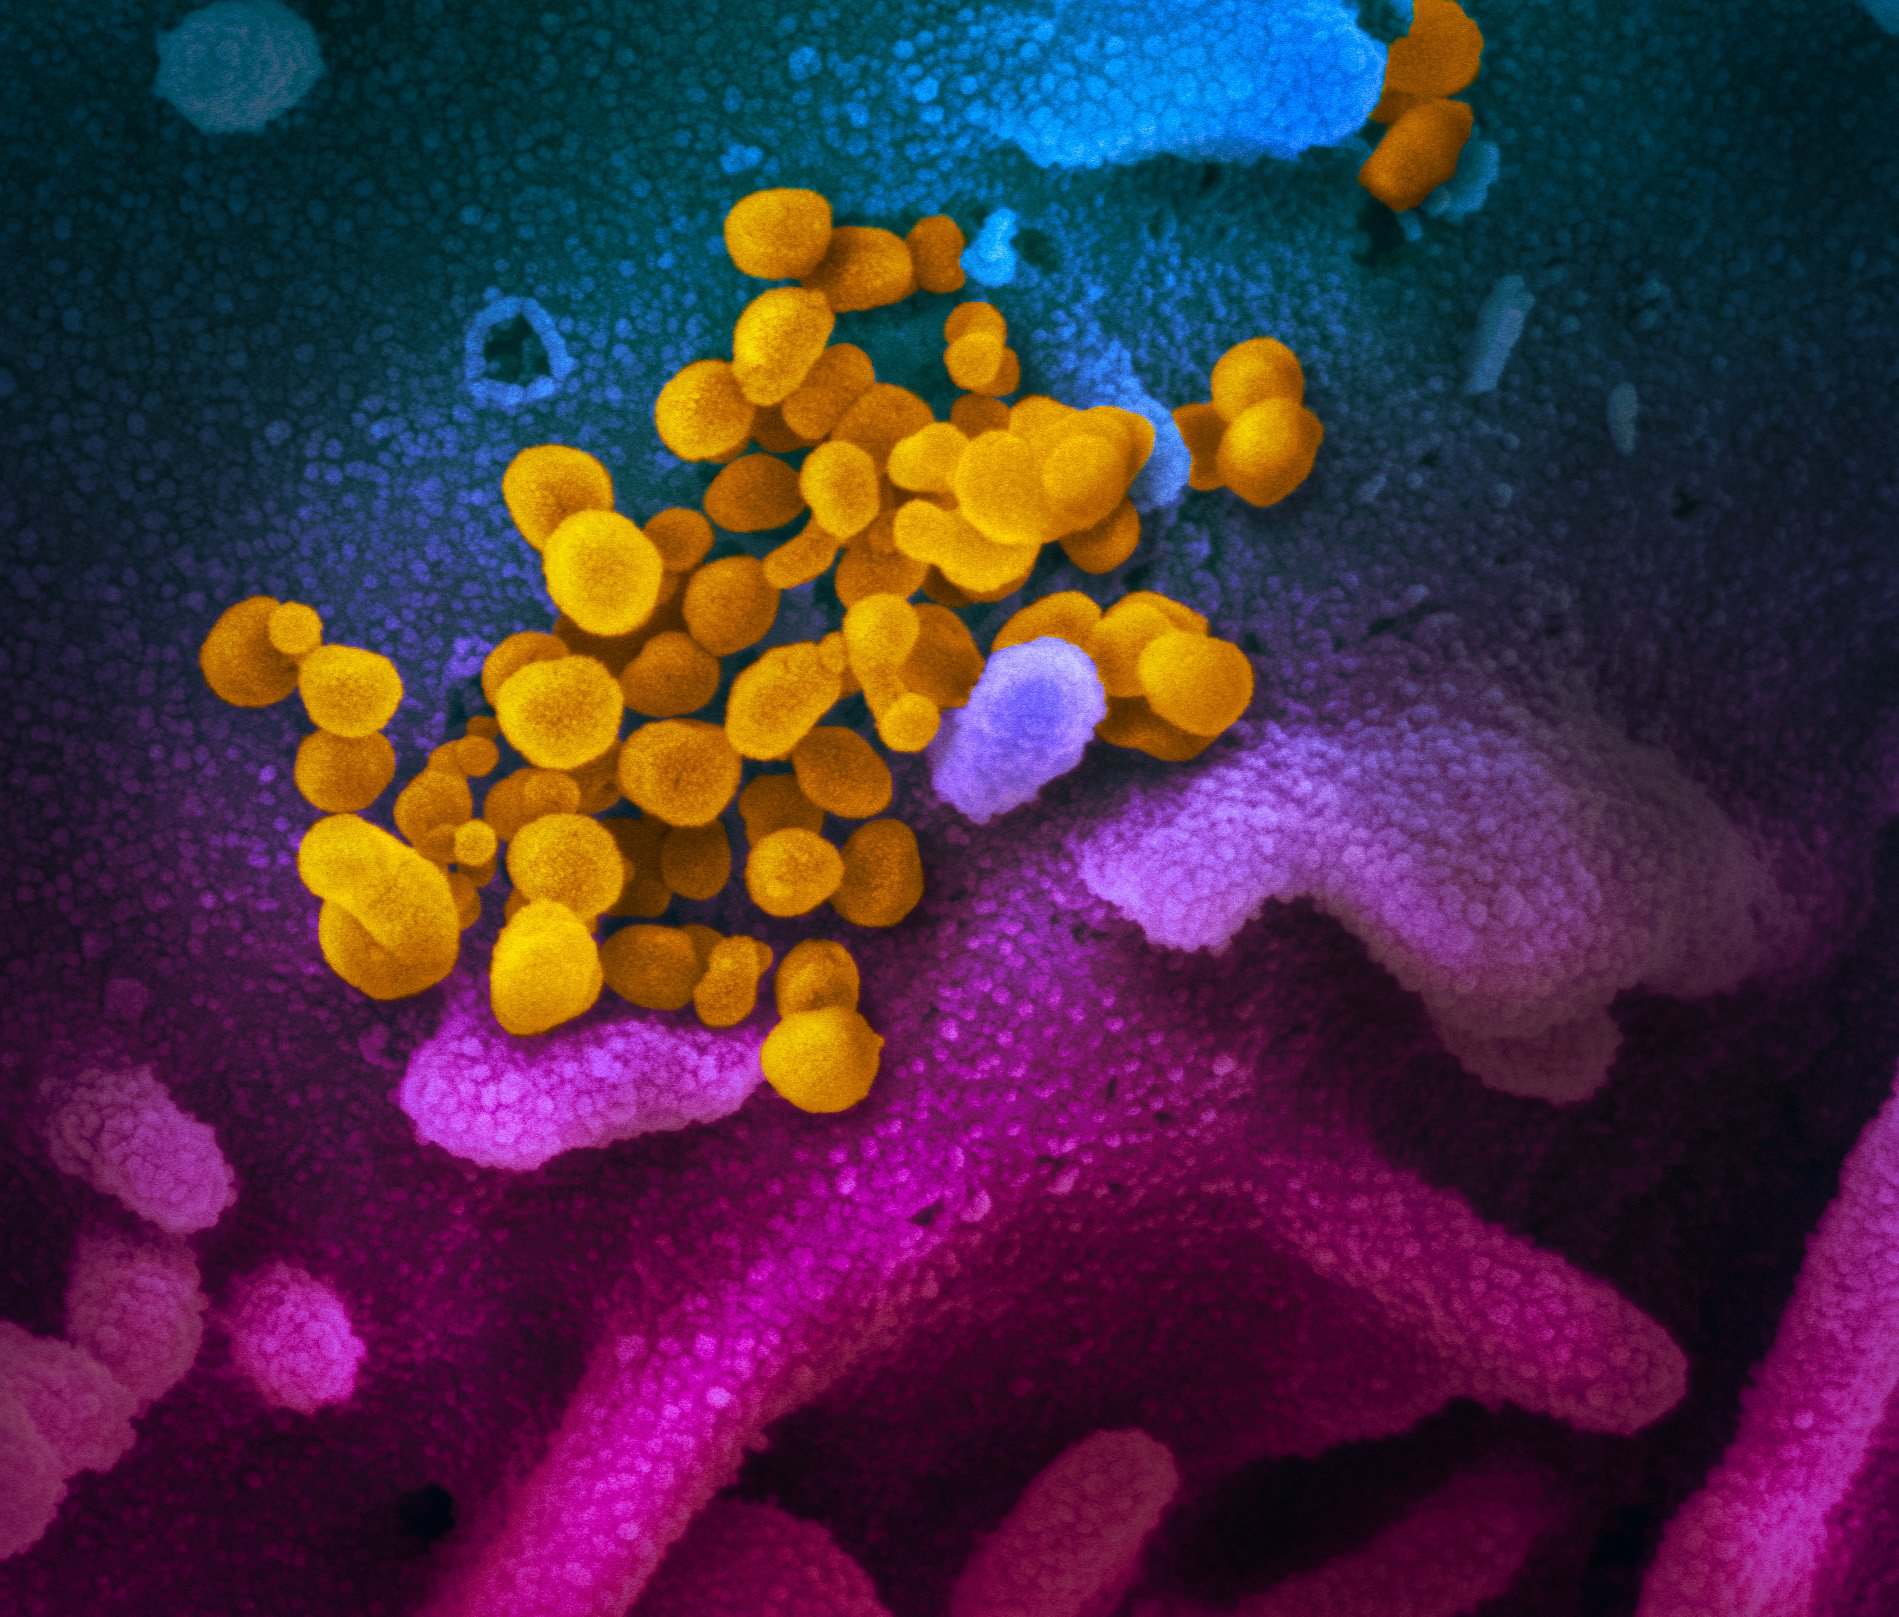COVID19: (213, 168, 1286, 1068)
